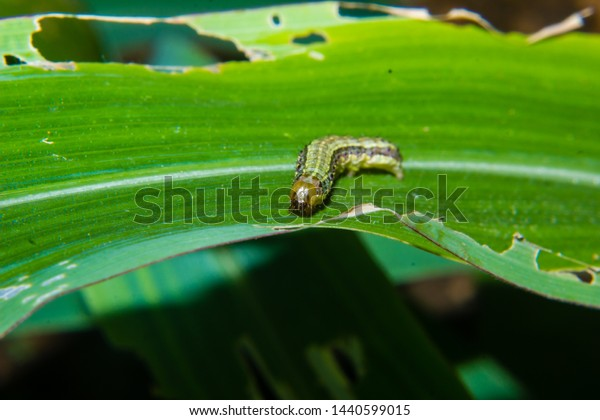Armyworm: (290, 125, 424, 217)
